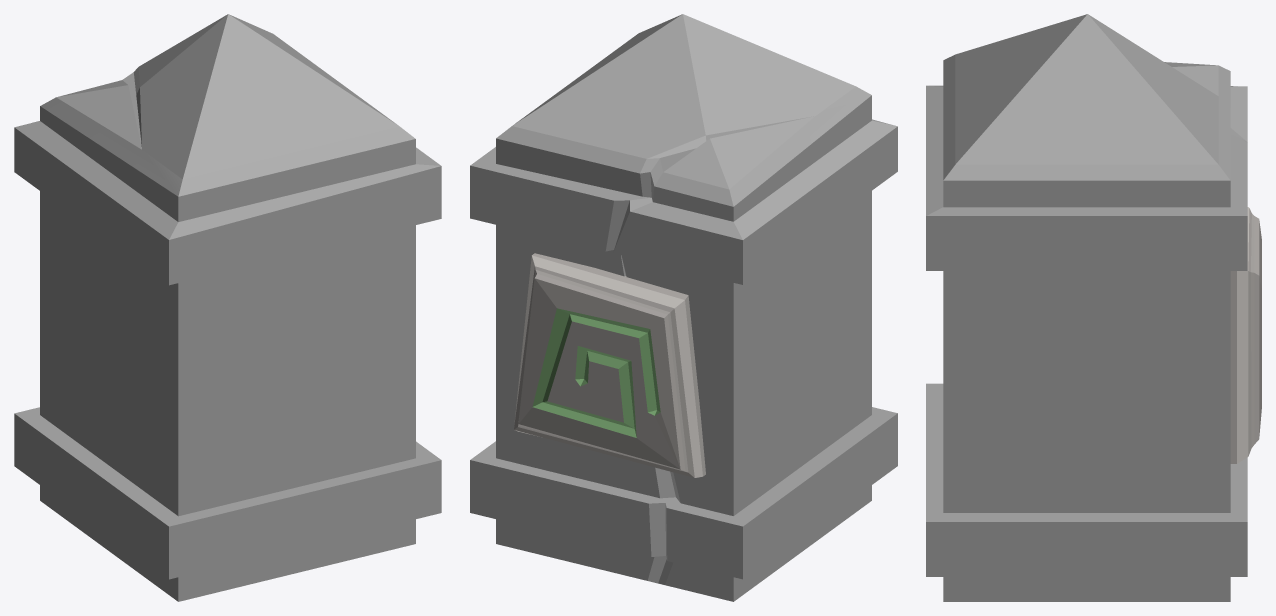
File: ER_Asset_EarthStone01.fbx
The picture shows the model from 3 angles, left to right: view 1: azimuth 30°, elevation 25°; view 2: azimuth 150°, elevation 25°; view 3: azimuth 270°, elevation 25°; orthographic projection. The views are drawn at different scales.
Visible parts, largest first — view 1: pCube736; view 2: pCube736; view 3: pCube736.
Part boxes in pixels (box(x1,y1,x2,y2)): pCube736: box(14, 14, 441, 601); pCube736: box(470, 14, 897, 601); pCube736: box(926, 14, 1261, 601).
Bounding box in the file's own units: 0.8993 × 1.6 × 0.9225.
